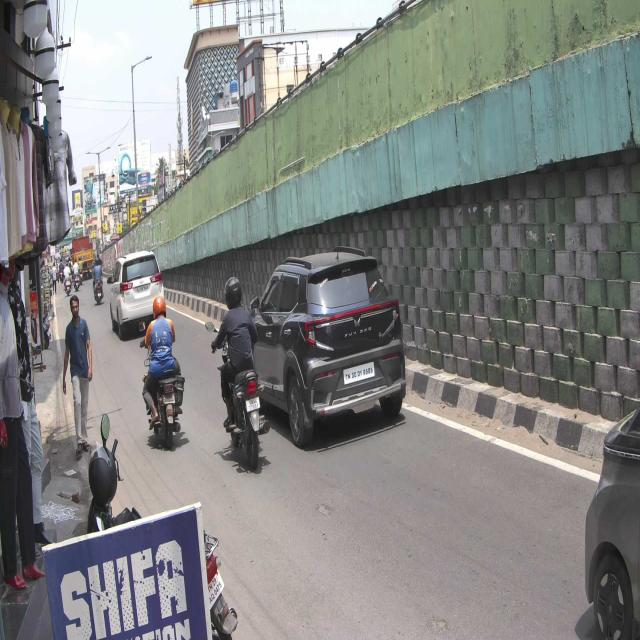single_rider: (208, 275, 274, 472), (140, 294, 188, 452)
